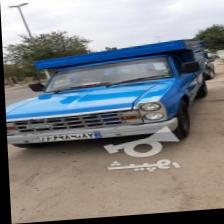plate: (36, 132, 103, 143)
